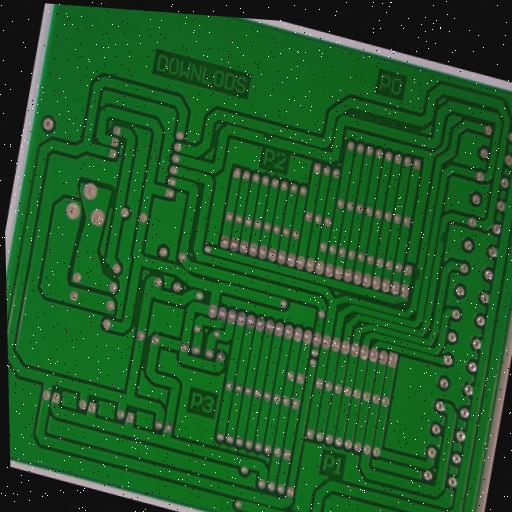mouse_bite: (411, 264, 425, 286), (260, 129, 276, 146), (437, 227, 450, 247)
